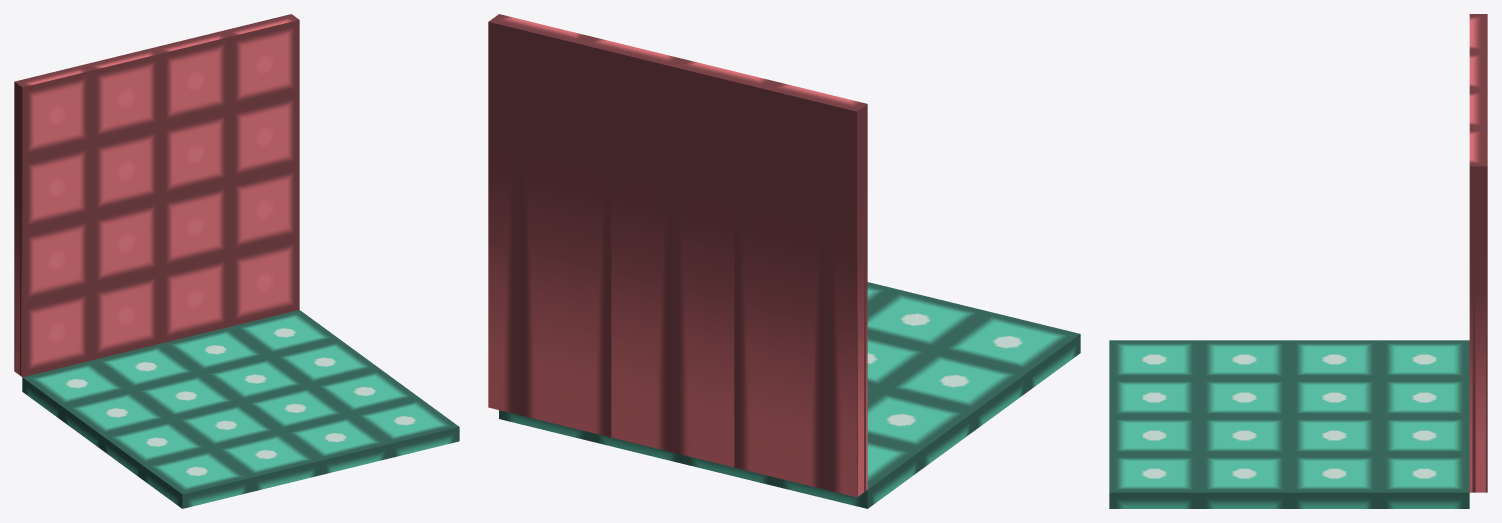
The model's file is relief-tile.glb.
The picture shows the model from 3 angles, left to right: view 1: azimuth 30°, elevation 25°; view 2: azimuth 150°, elevation 25°; view 3: azimuth 270°, elevation 25°; orthographic projection. The views are drawn at different scales.
Visible parts, largest first — view 1: wall, floor; view 2: wall, floor; view 3: floor, wall.
Part boxes in pixels (x1,y1,x2,y2): wall: (14,14,299,377); floor: (22,310,459,508); wall: (488,14,867,497); floor: (499,282,1080,508); floor: (1109,340,1469,508); wall: (1469,14,1487,492).
Bounding box in the file's own units: 2 × 2.1 × 2.1.
4 materials, 4 textured.
